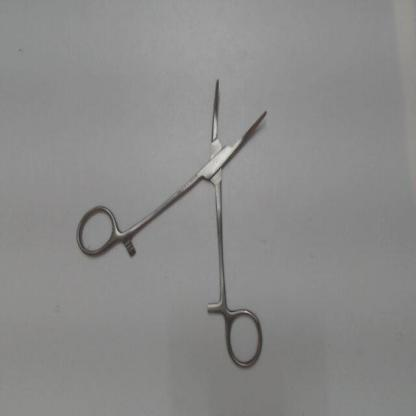Crile Artery Forceps: (70, 70, 274, 374)
